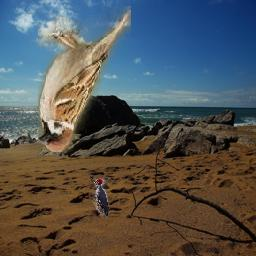Sparrow: (39, 6, 132, 152)
Woodpecker: (92, 178, 109, 218)
